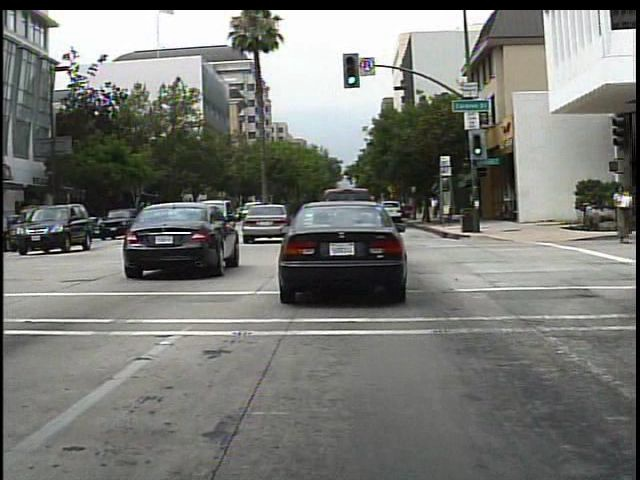person: (610, 181, 637, 249), (424, 191, 443, 224)
